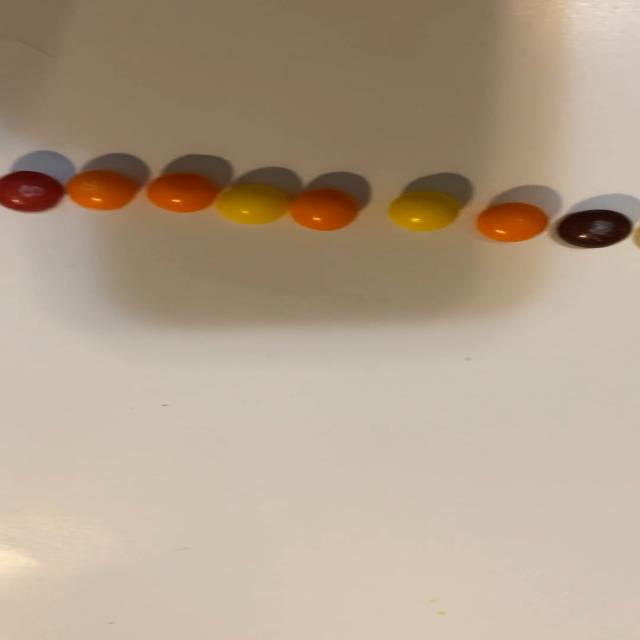smartie: (65, 169, 137, 210), (289, 188, 359, 230), (476, 202, 549, 242), (216, 184, 289, 224), (558, 209, 632, 248), (146, 172, 218, 212), (388, 191, 459, 231), (0, 170, 62, 212)
